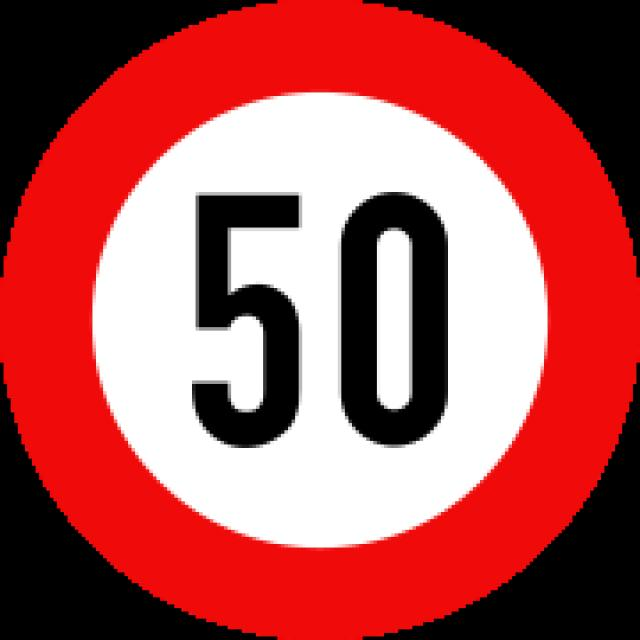Speed Limit -50-: (168, 165, 472, 460)
